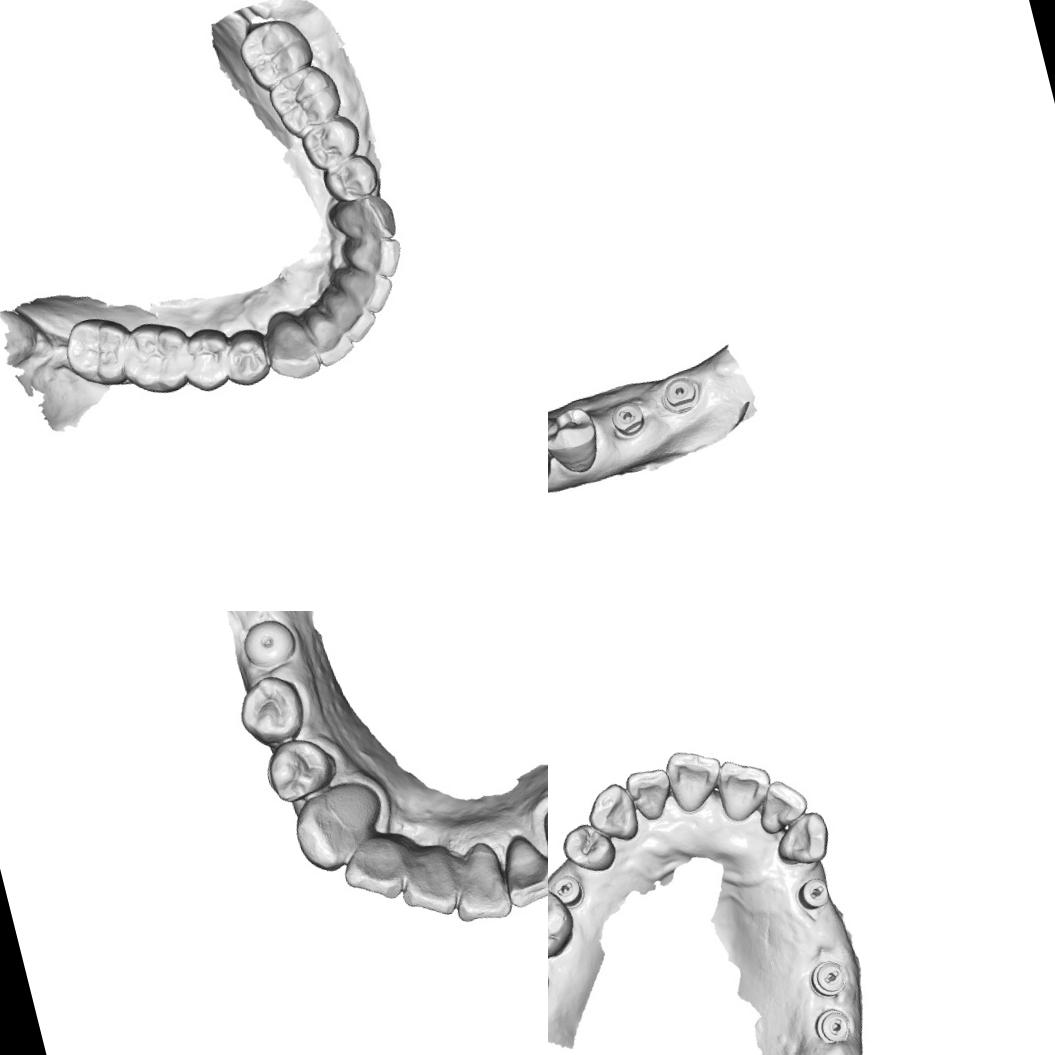canine: (285, 777, 391, 877), (257, 303, 325, 385), (322, 186, 399, 252), (578, 776, 644, 849), (768, 808, 837, 871)
implant: (236, 613, 300, 672), (656, 370, 704, 418)
implant_minus: (804, 954, 850, 1001), (810, 1003, 856, 1050), (606, 396, 650, 442), (792, 872, 834, 914), (548, 868, 588, 910)
incisor: (438, 837, 518, 930), (334, 830, 412, 915), (390, 846, 462, 923), (660, 740, 730, 816), (711, 749, 780, 826), (492, 826, 548, 911), (330, 254, 399, 322), (319, 276, 381, 349), (748, 772, 814, 837), (337, 227, 408, 287), (303, 295, 358, 368), (621, 762, 679, 826)
molar: (56, 306, 144, 398), (115, 310, 202, 402), (233, 10, 319, 95), (262, 59, 349, 140), (548, 869, 582, 969)
premolar: (227, 668, 313, 752), (256, 729, 340, 808), (174, 321, 240, 397), (548, 402, 606, 481), (296, 109, 366, 172), (555, 814, 620, 880), (215, 322, 276, 390), (318, 150, 384, 208)
